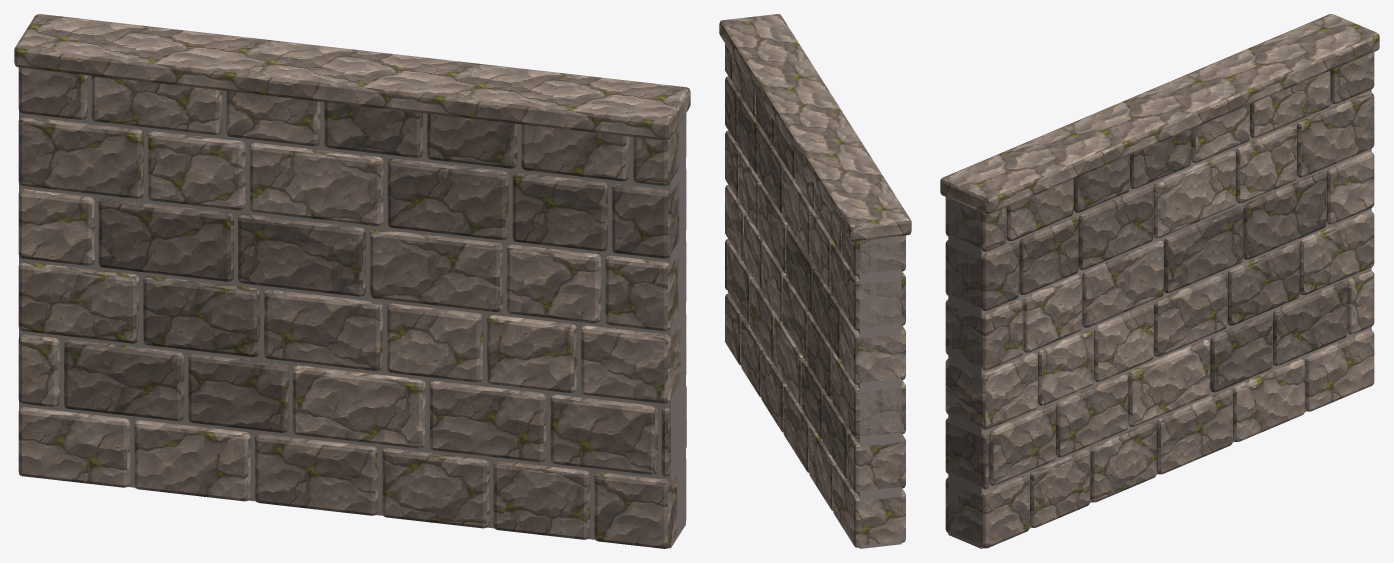
File: wall_diagonal__cut_stone.glb
3 renders of one model, left to right at view 1: azimuth 30°, elevation 25°; view 2: azimuth 150°, elevation 25°; view 3: azimuth 270°, elevation 25°, orthographic. The views are drawn at different scales.
Visible parts, largest first — view 1: model; view 2: model; view 3: model.
Part boxes in pixels (x1,y1,x2,y2): model: (14, 14, 690, 548); model: (719, 14, 911, 548); model: (940, 14, 1379, 548).
Bounding box in the file's own units: 2.24 × 1.99 × 2.24.
Materials: 4 (3 with a texture image).
